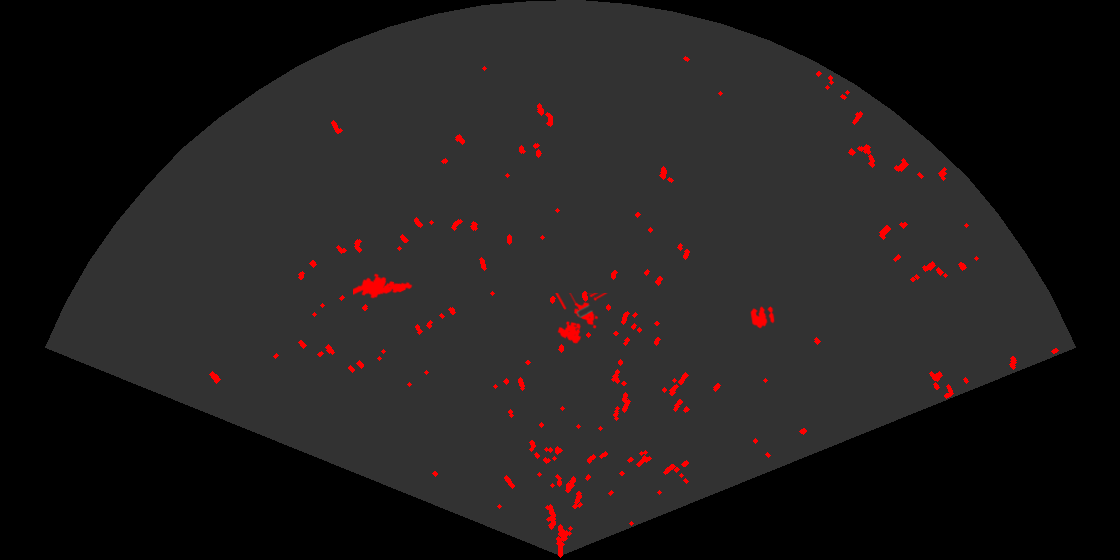ball: (749, 305, 776, 330)
cage: (554, 293, 609, 345)
frogman: (353, 272, 415, 300)
